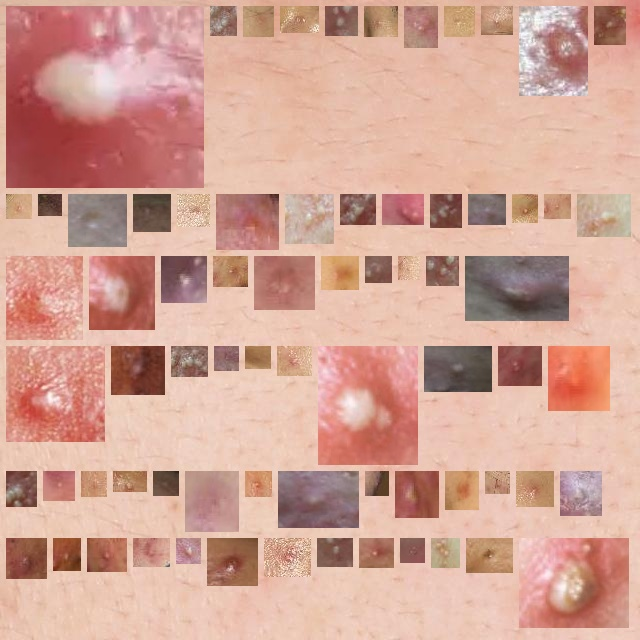pustule: (14, 14, 196, 180), (326, 354, 410, 457), (527, 546, 621, 620), (14, 354, 97, 434), (473, 264, 561, 313), (14, 264, 75, 332), (527, 14, 580, 88), (97, 264, 147, 322), (286, 479, 351, 520), (556, 354, 602, 403), (224, 202, 271, 242), (262, 264, 307, 302), (193, 479, 231, 524), (76, 202, 119, 239), (432, 354, 484, 384), (119, 354, 157, 387), (293, 202, 326, 236), (215, 546, 250, 578), (585, 202, 623, 229), (169, 264, 199, 295), (403, 479, 431, 510), (568, 479, 594, 508), (272, 546, 303, 569), (506, 354, 534, 378), (14, 546, 39, 571), (474, 546, 505, 565), (141, 202, 163, 224), (412, 14, 430, 40), (524, 479, 546, 499), (95, 546, 119, 564), (453, 479, 471, 502), (329, 264, 351, 282), (390, 202, 416, 217), (602, 14, 618, 37), (476, 202, 498, 217), (179, 354, 200, 369), (348, 202, 368, 217), (14, 479, 29, 499), (185, 202, 202, 219), (438, 202, 454, 220), (221, 264, 240, 279), (141, 546, 162, 559), (372, 14, 390, 29), (285, 354, 304, 368), (367, 546, 386, 560), (325, 546, 345, 559), (288, 14, 311, 25), (333, 14, 350, 28), (434, 264, 451, 278), (251, 14, 266, 29), (452, 14, 467, 29), (51, 479, 67, 493), (489, 14, 505, 27), (61, 546, 73, 563), (121, 479, 139, 490), (439, 546, 452, 560), (218, 14, 229, 28), (520, 202, 530, 215), (373, 264, 384, 275), (253, 479, 264, 489), (89, 479, 99, 489), (552, 202, 563, 211), (14, 202, 24, 211), (161, 479, 171, 488), (184, 546, 193, 556), (222, 354, 231, 363), (408, 546, 417, 555), (373, 479, 381, 488), (253, 354, 263, 361), (493, 479, 502, 486), (46, 202, 54, 208), (406, 264, 412, 272)
